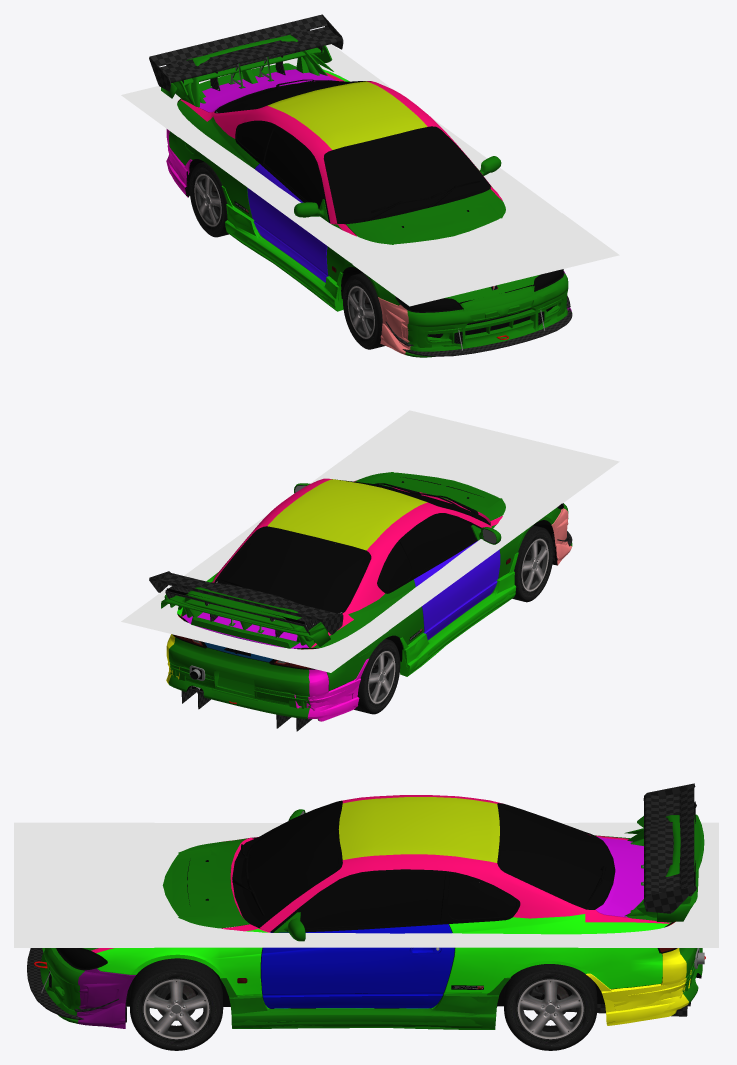
The model's file is silvia.fbx.
3 views of the same model, one above another, from view 1: azimuth 30°, elevation 25°; view 2: azimuth 150°, elevation 25°; view 3: azimuth 270°, elevation 25° (orthographic). The views are drawn at different scales.
Visible parts, largest first — view 1: neon (×4), nis_silviaspecr_00_body_body_, nis_silviaspecr_00_glassF_window_, shadow, nis_silviaspecr_00_wingf_carbon_fiber_, nis_silviaspecr_00_hooda_body_, nis_silviaspecr_00_bumperFb_body_, nis_silviaspecr_00_wheel_tire_ (×2), nis_silviaspecr_00_glassRF_window_, nis_silviaspecr_00_bumperFd_body_, nis_silviaspecr_00_hoodg_body_, nis_silviaspecr_00_body_rubber_trim_ (+15 smaller); view 2: neon (×3), nis_silviaspecr_00_body_body_, shadow, nis_silviaspecr_00_glassR_window_, nis_silviaspecr_00_wingf_carbon_fiber_, nis_silviaspecr_00_wheel_tire_ (×2), nis_silviaspecr_00_glassRF_window_, nis_silviaspecr_00_wingb_body_2_, nis_silviaspecr_00_bumperRd_body_, nis_silviaspecr_00_hooda_body_, nis_silviaspecr_00_bumperRe_body_, nis_silviaspecr_00_bumperRc_body_ (+17 smaller); view 3: nis_silviaspecr_00_body_body_, neon (×4), nis_silviaspecr_00_wheel_tire_ (×2), shadow, nis_silviaspecr_00_glassF_window_, nis_silviaspecr_00_glassR_window_, nis_silviaspecr_00_glassLF_window_, nis_silviaspecr_00_wingf_carbon_fiber_, nis_silviaspecr_00_wheel_rim_ (×2), nis_silviaspecr_00_hooda_body_, nis_silviaspecr_00_body_rubber_trim_, nis_silviaspecr_00_skirtLe_body_ (+23 smaller).
Part boxes in pixels (box(x1,y1,x2,y2)): neon (×4): box(121, 44, 619, 306); nis_silviaspecr_00_body_body_: box(169, 69, 502, 305); nis_silviaspecr_00_glassF_window_: box(329, 130, 484, 220); shadow: box(165, 66, 570, 279); nis_silviaspecr_00_wingf_carbon_fiber_: box(149, 14, 343, 91); nis_silviaspecr_00_hooda_body_: box(353, 191, 534, 302); nis_silviaspecr_00_bumperFb_body_: box(378, 271, 567, 351); nis_silviaspecr_00_wheel_tire_ (×2): box(189, 162, 384, 349); nis_silviaspecr_00_glassRF_window_: box(264, 129, 323, 208); nis_silviaspecr_00_bumperFd_body_: box(380, 276, 568, 343); nis_silviaspecr_00_hoodg_body_: box(346, 189, 539, 302); nis_silviaspecr_00_body_rubber_trim_: box(214, 81, 490, 223); neon (×3): box(121, 410, 619, 672); nis_silviaspecr_00_body_body_: box(177, 478, 561, 691); shadow: box(168, 436, 571, 630); nis_silviaspecr_00_glassR_window_: box(222, 531, 364, 609); nis_silviaspecr_00_wingf_carbon_fiber_: box(149, 571, 343, 634); nis_silviaspecr_00_wheel_tire_ (×2): box(354, 525, 553, 714); nis_silviaspecr_00_glassRF_window_: box(403, 517, 475, 573); nis_silviaspecr_00_wingb_body_2_: box(181, 587, 315, 648); nis_silviaspecr_00_bumperRd_body_: box(167, 643, 368, 708); nis_silviaspecr_00_hooda_body_: box(356, 472, 504, 517); nis_silviaspecr_00_bumperRe_body_: box(166, 636, 354, 719); nis_silviaspecr_00_bumperRc_body_: box(166, 636, 328, 705); nis_silviaspecr_00_body_body_: box(91, 795, 671, 1008); neon (×4): box(14, 822, 718, 947); nis_silviaspecr_00_wheel_tire_ (×2): box(130, 958, 597, 1050); shadow: box(58, 823, 669, 947); nis_silviaspecr_00_glassF_window_: box(241, 804, 336, 922); nis_silviaspecr_00_glassR_window_: box(503, 807, 606, 903); nis_silviaspecr_00_glassLF_window_: box(300, 874, 444, 928); nis_silviaspecr_00_wingf_carbon_fiber_: box(643, 783, 695, 913); nis_silviaspecr_00_wheel_rim_ (×2): box(143, 979, 583, 1039); nis_silviaspecr_00_hooda_body_: box(83, 840, 244, 950); nis_silviaspecr_00_body_rubber_trim_: box(252, 800, 615, 932); nis_silviaspecr_00_skirtLe_body_: box(229, 993, 498, 1028).
Size of the model in its own units: 4 by 1.32 by 4.79.
